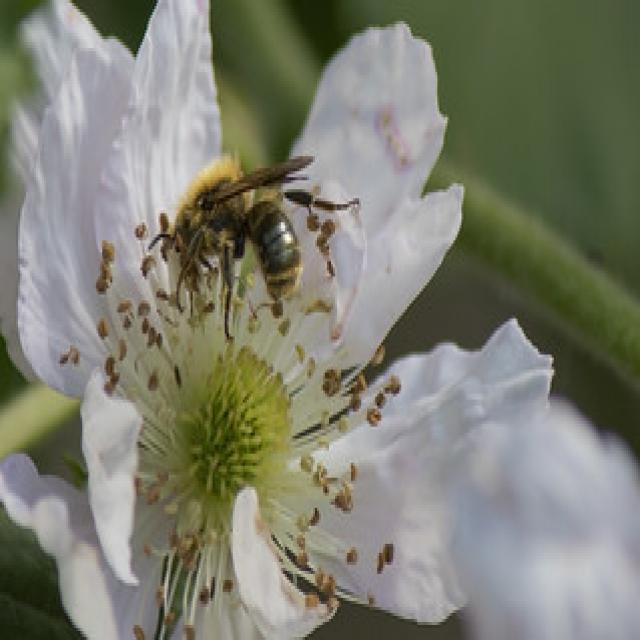Guepe: (133, 116, 362, 333)
